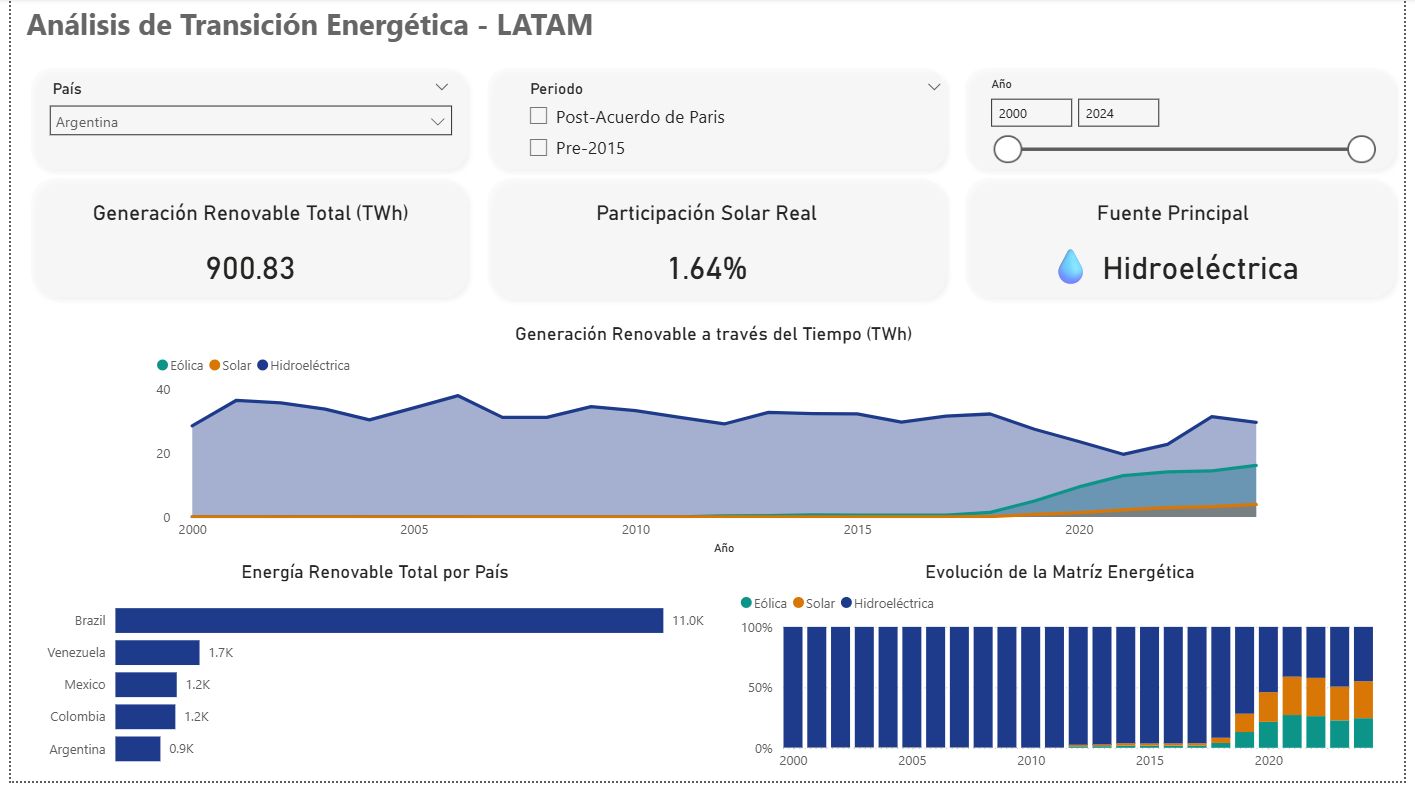

The dashboard page shown, as its layout file describes it:
{"tool":"powerbi","page":{"name":"Page 1","canvas":[1280,720],"ordinal":0},"visuals":[{"type":"shape","box":[428.1,156.4,439.1,129],"z":0},{"type":"shape","box":[9.6,54.9,418.5,111.1],"z":1000},{"type":"textbox","box":[9.6,0,542,57.6],"z":2000},{"type":"slicer","fields":{"Values":["public bi_energia_limpia.country"]},"box":[24.7,70,389.7,74.1],"z":3000},{"type":"shape","box":[428.1,54.9,439.1,111.1],"z":4000},{"type":"slicer","fields":{"Values":["public bi_energia_limpia.periodo"]},"box":[463.8,70,403.4,86.4],"z":5000},{"type":"shape","box":[867.2,54.9,413,111.1],"z":6000},{"type":"slicer","fields":{"Values":["public bi_energia_limpia.year"]},"box":[887.8,67.2,374.6,89.2],"z":7000},{"type":"shape","box":[9.6,156.4,418.5,127.6],"z":8000},{"type":"shape","box":[867.2,156.4,413,127.6],"z":8500},{"type":"card","title":"Generación Renovable Total (TWh)","fields":{"Values":["Sum(public bi_energia_limpia.renewables_electricity)"]},"box":[24.7,186.6,389.7,98.8],"z":9000},{"type":"card","title":"Participación Solar Real","fields":{"Values":["public bi_energia_limpia.Participacion_Solar_Real"]},"box":[444.6,186.6,389.7,98.8],"z":10000},{"type":"card","title":"Fuente  Principal","fields":{"Values":["public bi_energia_limpia.Fuente_Principal"]},"box":[872.7,186.6,389.7,98.8],"z":11000},{"type":"areaChart","title":"Generación Renovable a través del Tiempo","fields":{"Category":["public bi_energia_limpia.year"],"Y":["Sum(public bi_energia_limpia.wind_electricity)","Sum(public bi_energia_limpia.solar_electricity)","Sum(public bi_energia_limpia.hydro_electricity)"]},"box":[129.1,298.8,1033.7,227.9],"z":13000},{"type":"treemap","title":"Producción de Energía Renovable por Año","fields":{"Group":["public bi_energia_limpia.country","public bi_energia_limpia.year"],"Values":["public bi_energia_limpia.Total_Renovables_TWh"]},"box":[24.4,537.2,640.7,182.6],"z":13001},{"type":"clusteredColumnChart","title":"Energía Renovable por año y periodo","fields":{"Category":["public bi_energia_limpia.year"],"Y":["public bi_energia_limpia.Total_Renovables_TWh"],"Series":["public bi_energia_limpia.periodo"]},"box":[665.1,537.2,597.7,182.6],"z":13002}]}

Visuals, with their boxes in screenshot pixels (x1, y1, x2, y2), scaled from the page's 1280x720 canvas onto the 1415x785 screenshot:
shape: bbox=(473, 171, 959, 311)
shape: bbox=(11, 60, 473, 181)
textbox: bbox=(11, 0, 610, 63)
slicer - public bi_energia_limpia.country: bbox=(27, 76, 458, 157)
shape: bbox=(473, 60, 959, 181)
slicer - public bi_energia_limpia.periodo: bbox=(513, 76, 959, 171)
shape: bbox=(959, 60, 1414, 181)
slicer - public bi_energia_limpia.year: bbox=(981, 73, 1396, 171)
shape: bbox=(11, 171, 473, 310)
shape: bbox=(959, 171, 1414, 310)
"Generación Renovable Total (TWh)" card: bbox=(27, 203, 458, 311)
"Participación Solar Real" card: bbox=(491, 203, 922, 311)
"Fuente  Principal" card: bbox=(965, 203, 1396, 311)
"Generación Renovable a través del Tiempo" areaChart: bbox=(143, 326, 1285, 574)
"Producción de Energía Renovable por Año" treemap: bbox=(27, 586, 735, 784)
"Energía Renovable por año y periodo" clusteredColumnChart: bbox=(735, 586, 1396, 784)
